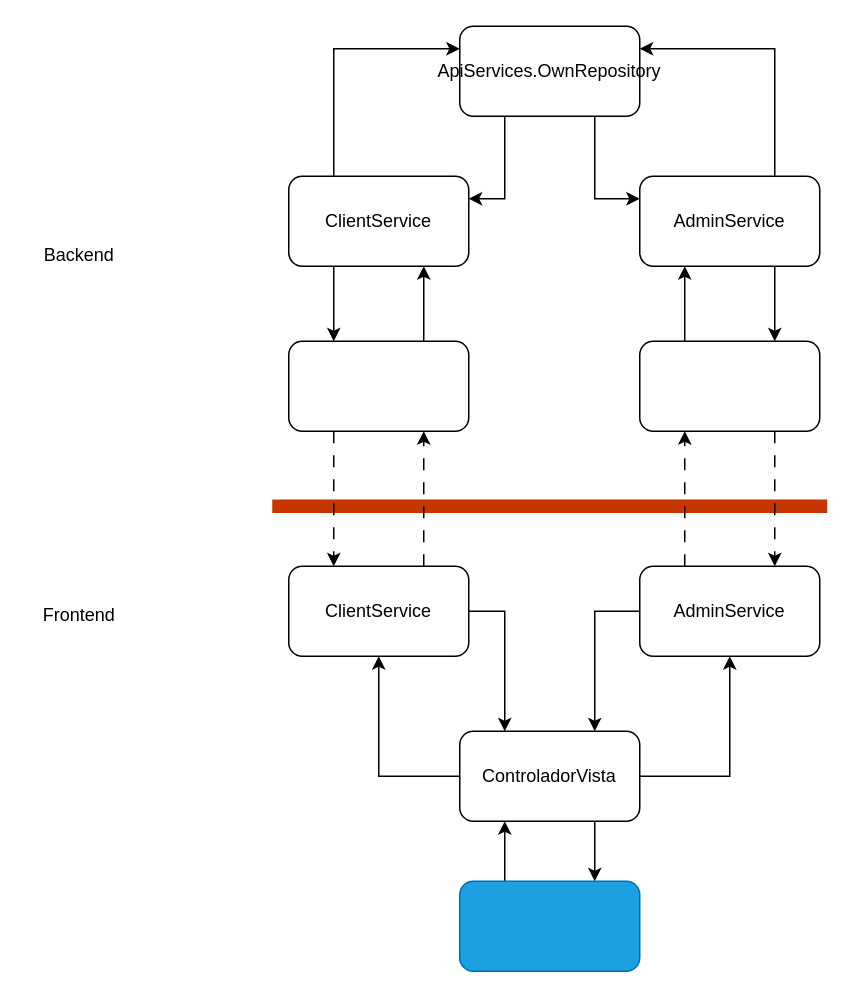
This 861x998 diagram has some shape labels left out. Here are the shapes that lost their labels. From the top down, the centre of each, then its label:
the point at 378,385: Client Controller
the point at 729,385: AdminController
the point at 549,925: Vista
